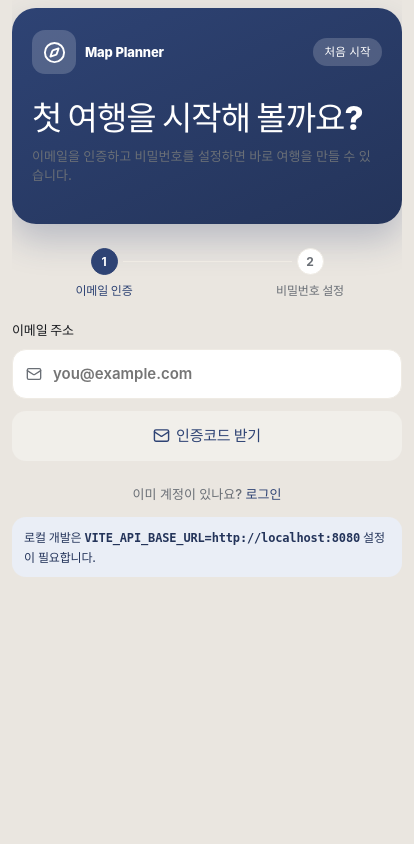
Scenario: ManageAuthSection › 로그인으로 전환하면 이전 인증 상태와 코드를 초기화한다
In the field labelled "이메일 주소": (207,374) [12,349,402,399], type "traveler@example.com"
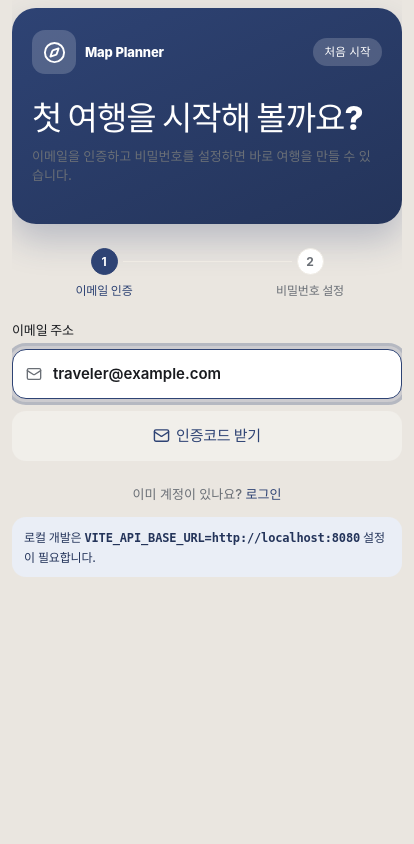
Click the button "인증코드 받기": (207,436) [12,411,402,461]
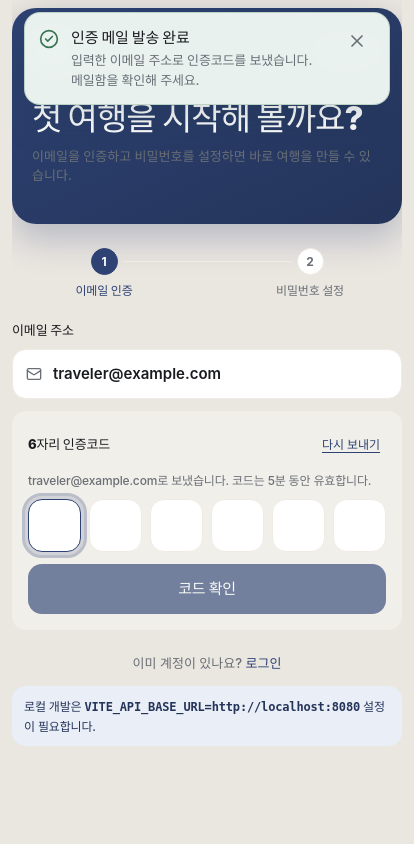
In the field labelled "6자리 인증코드": (54,525) [28,499,81,552], type "123456"
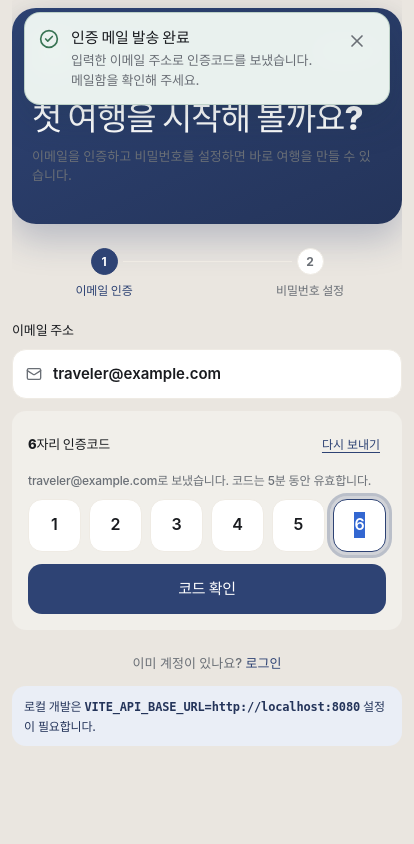
Click the button "코드 확인": (207,589) [28,564,386,614]
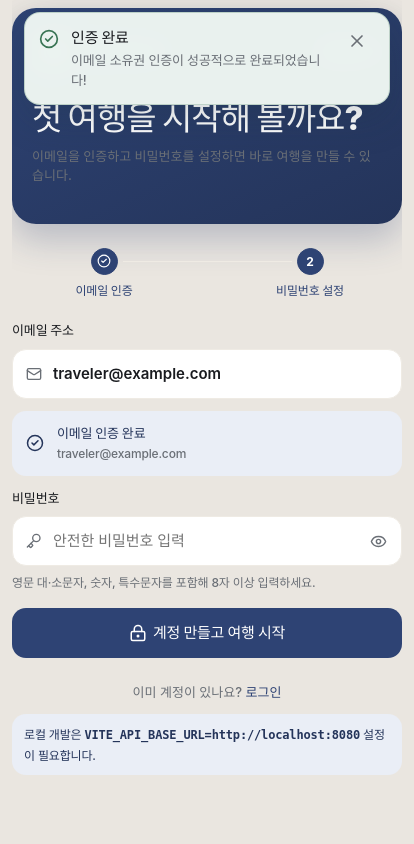
Result: the text "이메일 인증 완료" is shown at [57,425,145,441]
Click the button "이미 계정이 있나요? 로그인": (207,692) [12,670,402,714]
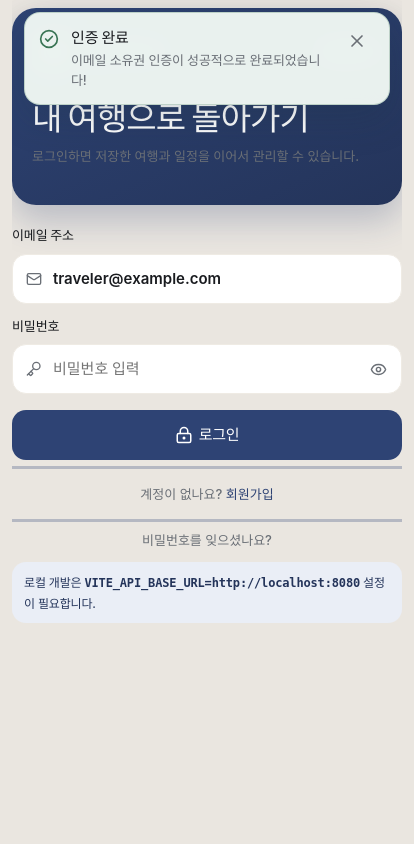
Click the button "계정이 없나요? 회원가입": (207,494) [12,472,402,516]
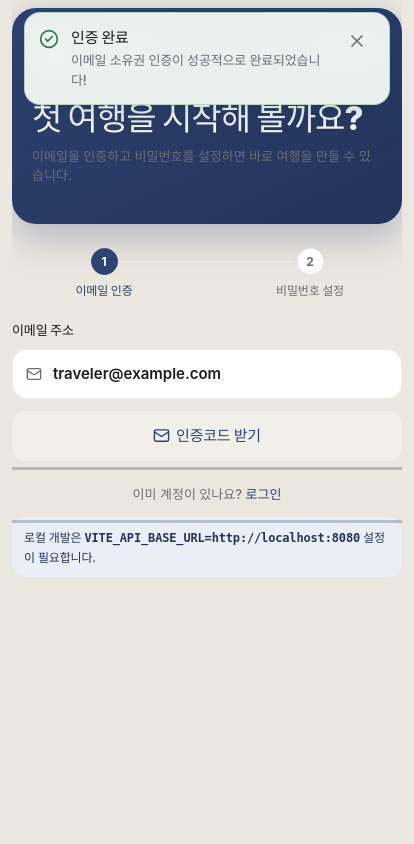
Expected: the text "이메일 인증 완료" is not shown
Result: the button "인증코드 받기" is shown at [12,411,402,461]
